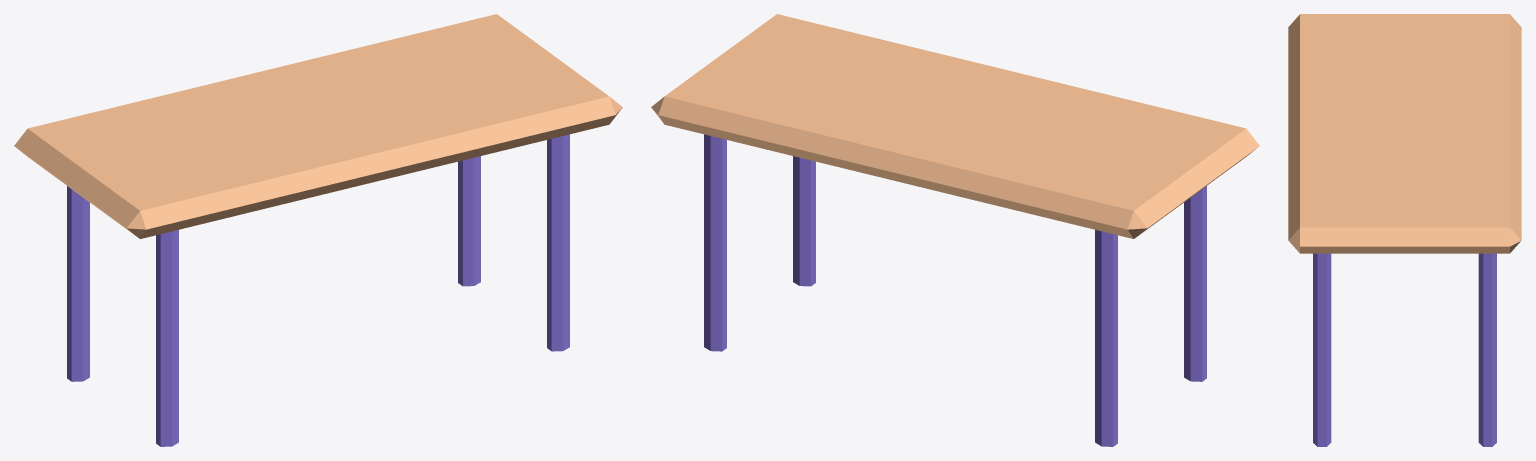
3 renders of one model, left to right at view 1: azimuth 30°, elevation 25°; view 2: azimuth 150°, elevation 25°; view 3: azimuth 270°, elevation 25°, orthographic. The views are drawn at different scales.
Visible parts, largest first — view 1: Rounded table top, Leg.002, Leg, Leg.001, Leg.003; view 2: Rounded table top, Leg.003, Leg.001, Leg, Leg.002; view 3: Rounded table top, Leg.002, Leg.003.
Boxes of the visible parts, box(x1,y1,x2,y2) form: Rounded table top: box(14, 14, 622, 238); Leg.002: box(547, 134, 569, 351); Leg: box(156, 230, 178, 446); Leg.001: box(67, 186, 89, 381); Leg.003: box(458, 156, 480, 286); Rounded table top: box(651, 14, 1259, 238); Leg.003: box(704, 134, 726, 351); Leg.001: box(1095, 230, 1117, 446); Leg: box(1184, 186, 1206, 381); Leg.002: box(793, 156, 815, 286); Rounded table top: box(1288, 14, 1521, 253); Leg.002: box(1313, 253, 1331, 446); Leg.003: box(1478, 253, 1496, 446).
Bounding box in the file's own units: 1.65 × 0.795 × 0.72.
Materials: 1 (1 with a texture image).
